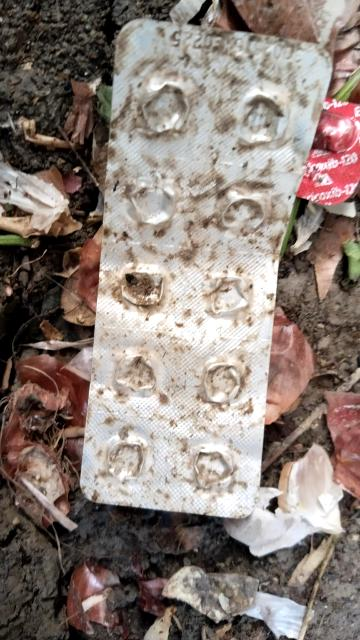medicine: (111, 17, 290, 511)
